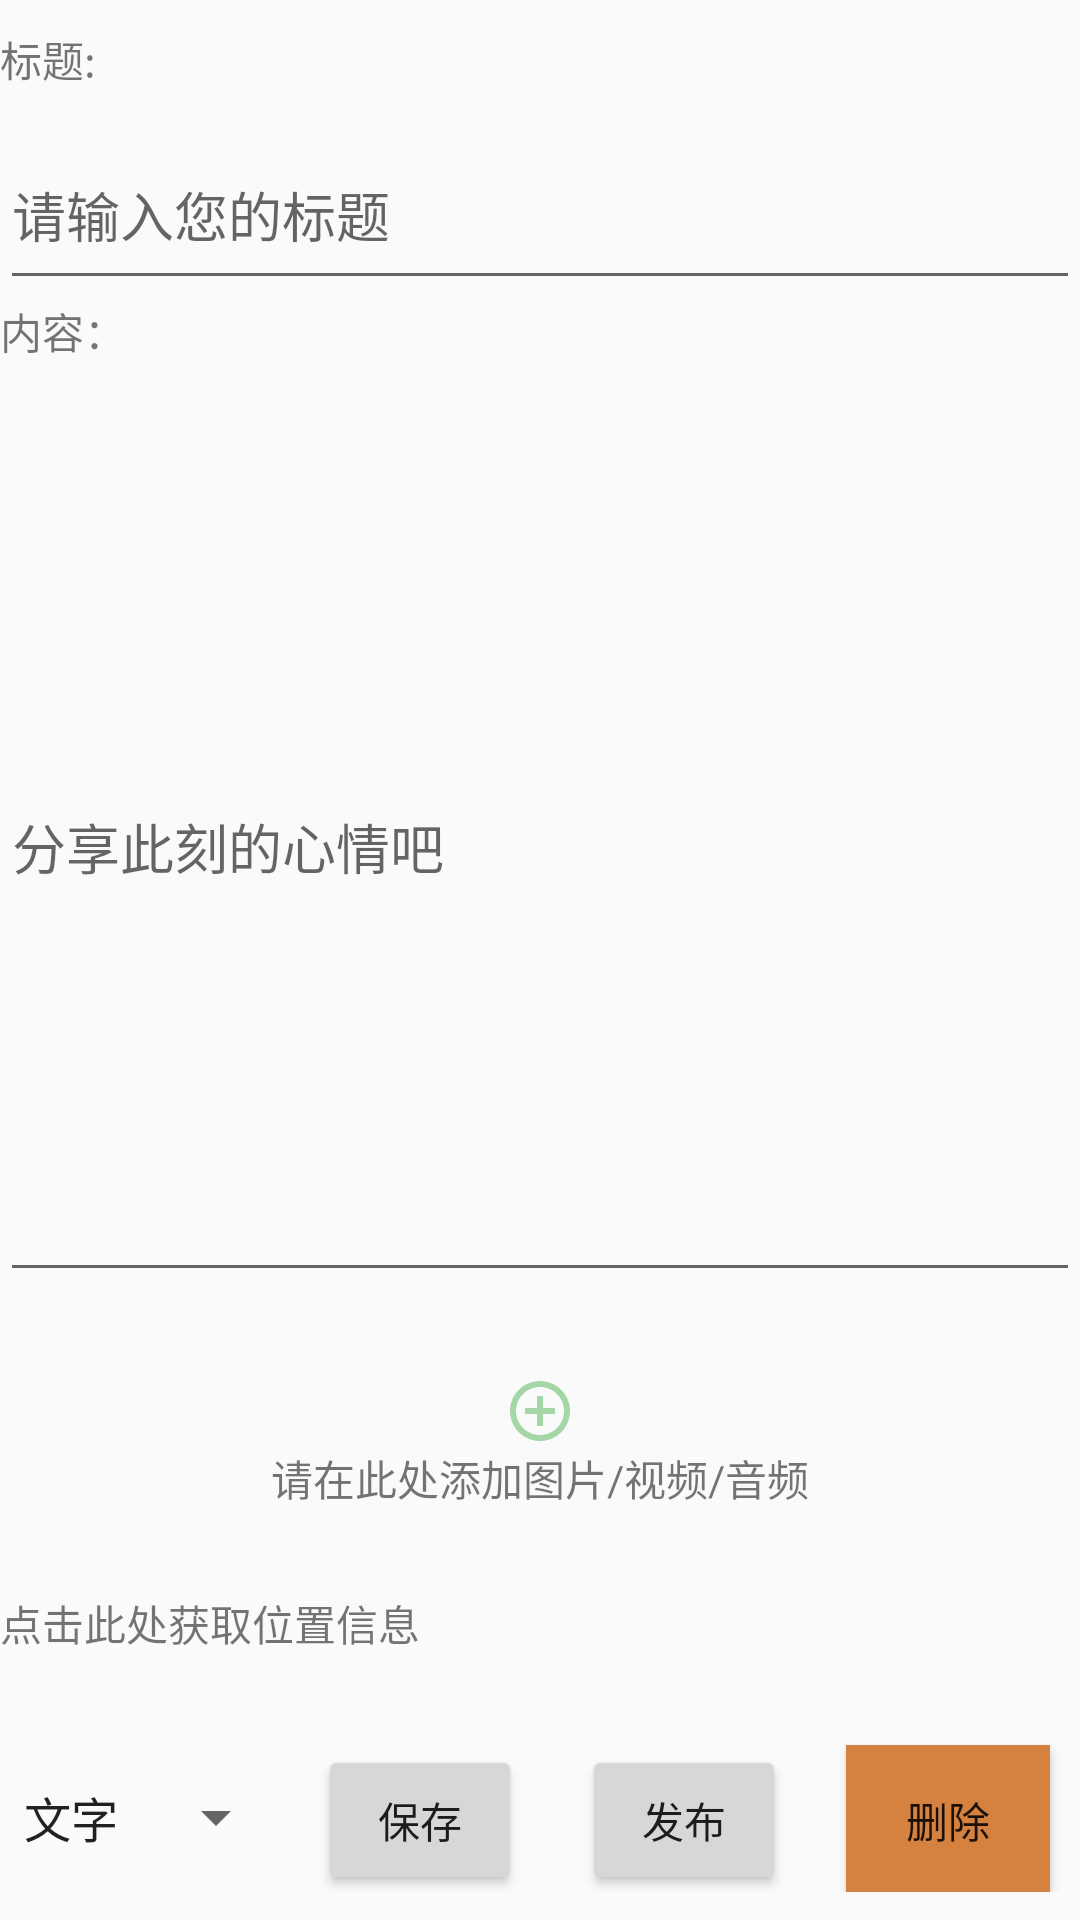

Where to tap for icons on this 1080x1920 app screen, as [x,y]:
add circle: [540,1411]
